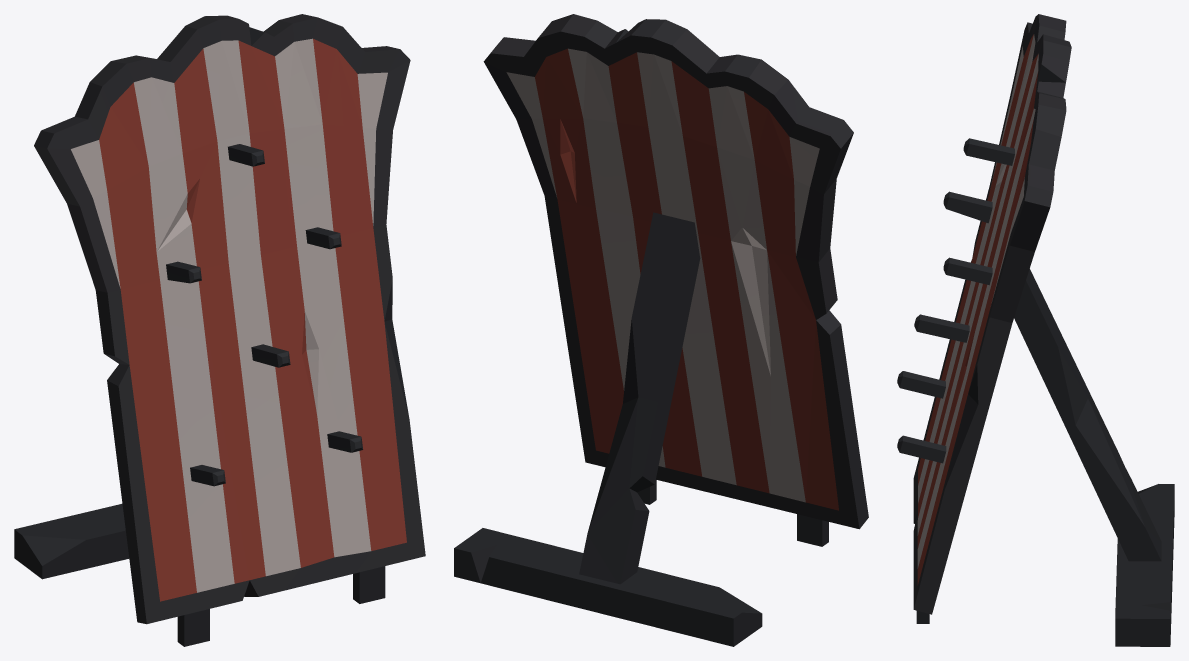
Rendered from ring-toss.glb.
3 renders of one model, left to right at view 1: azimuth 30°, elevation 25°; view 2: azimuth 150°, elevation 25°; view 3: azimuth 270°, elevation 25°, orthographic. The views are drawn at different scales.
Parts seen in each view (by area): view 1: SM_Prop_Ring_Toss_01; view 2: SM_Prop_Ring_Toss_01; view 3: SM_Prop_Ring_Toss_01.
Part boxes in pixels (x1,y1,x2,y2): SM_Prop_Ring_Toss_01: (14, 14, 425, 646); SM_Prop_Ring_Toss_01: (454, 14, 868, 646); SM_Prop_Ring_Toss_01: (897, 14, 1174, 646).
Bounding box in the file's own units: 128 × 187 × 87.65.
1 material, 1 textured.
